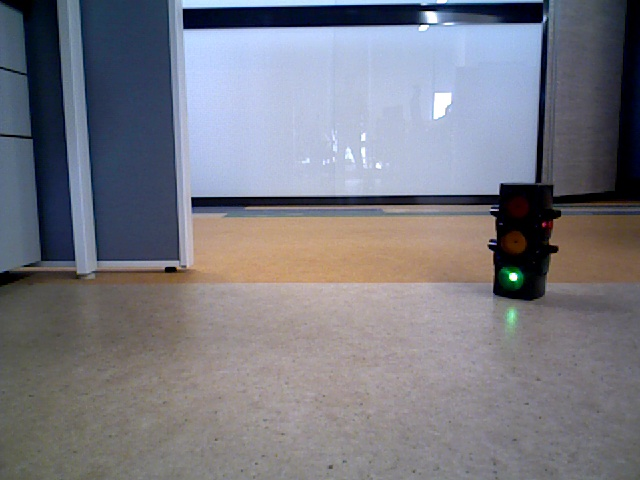green: (496, 187, 543, 294)
